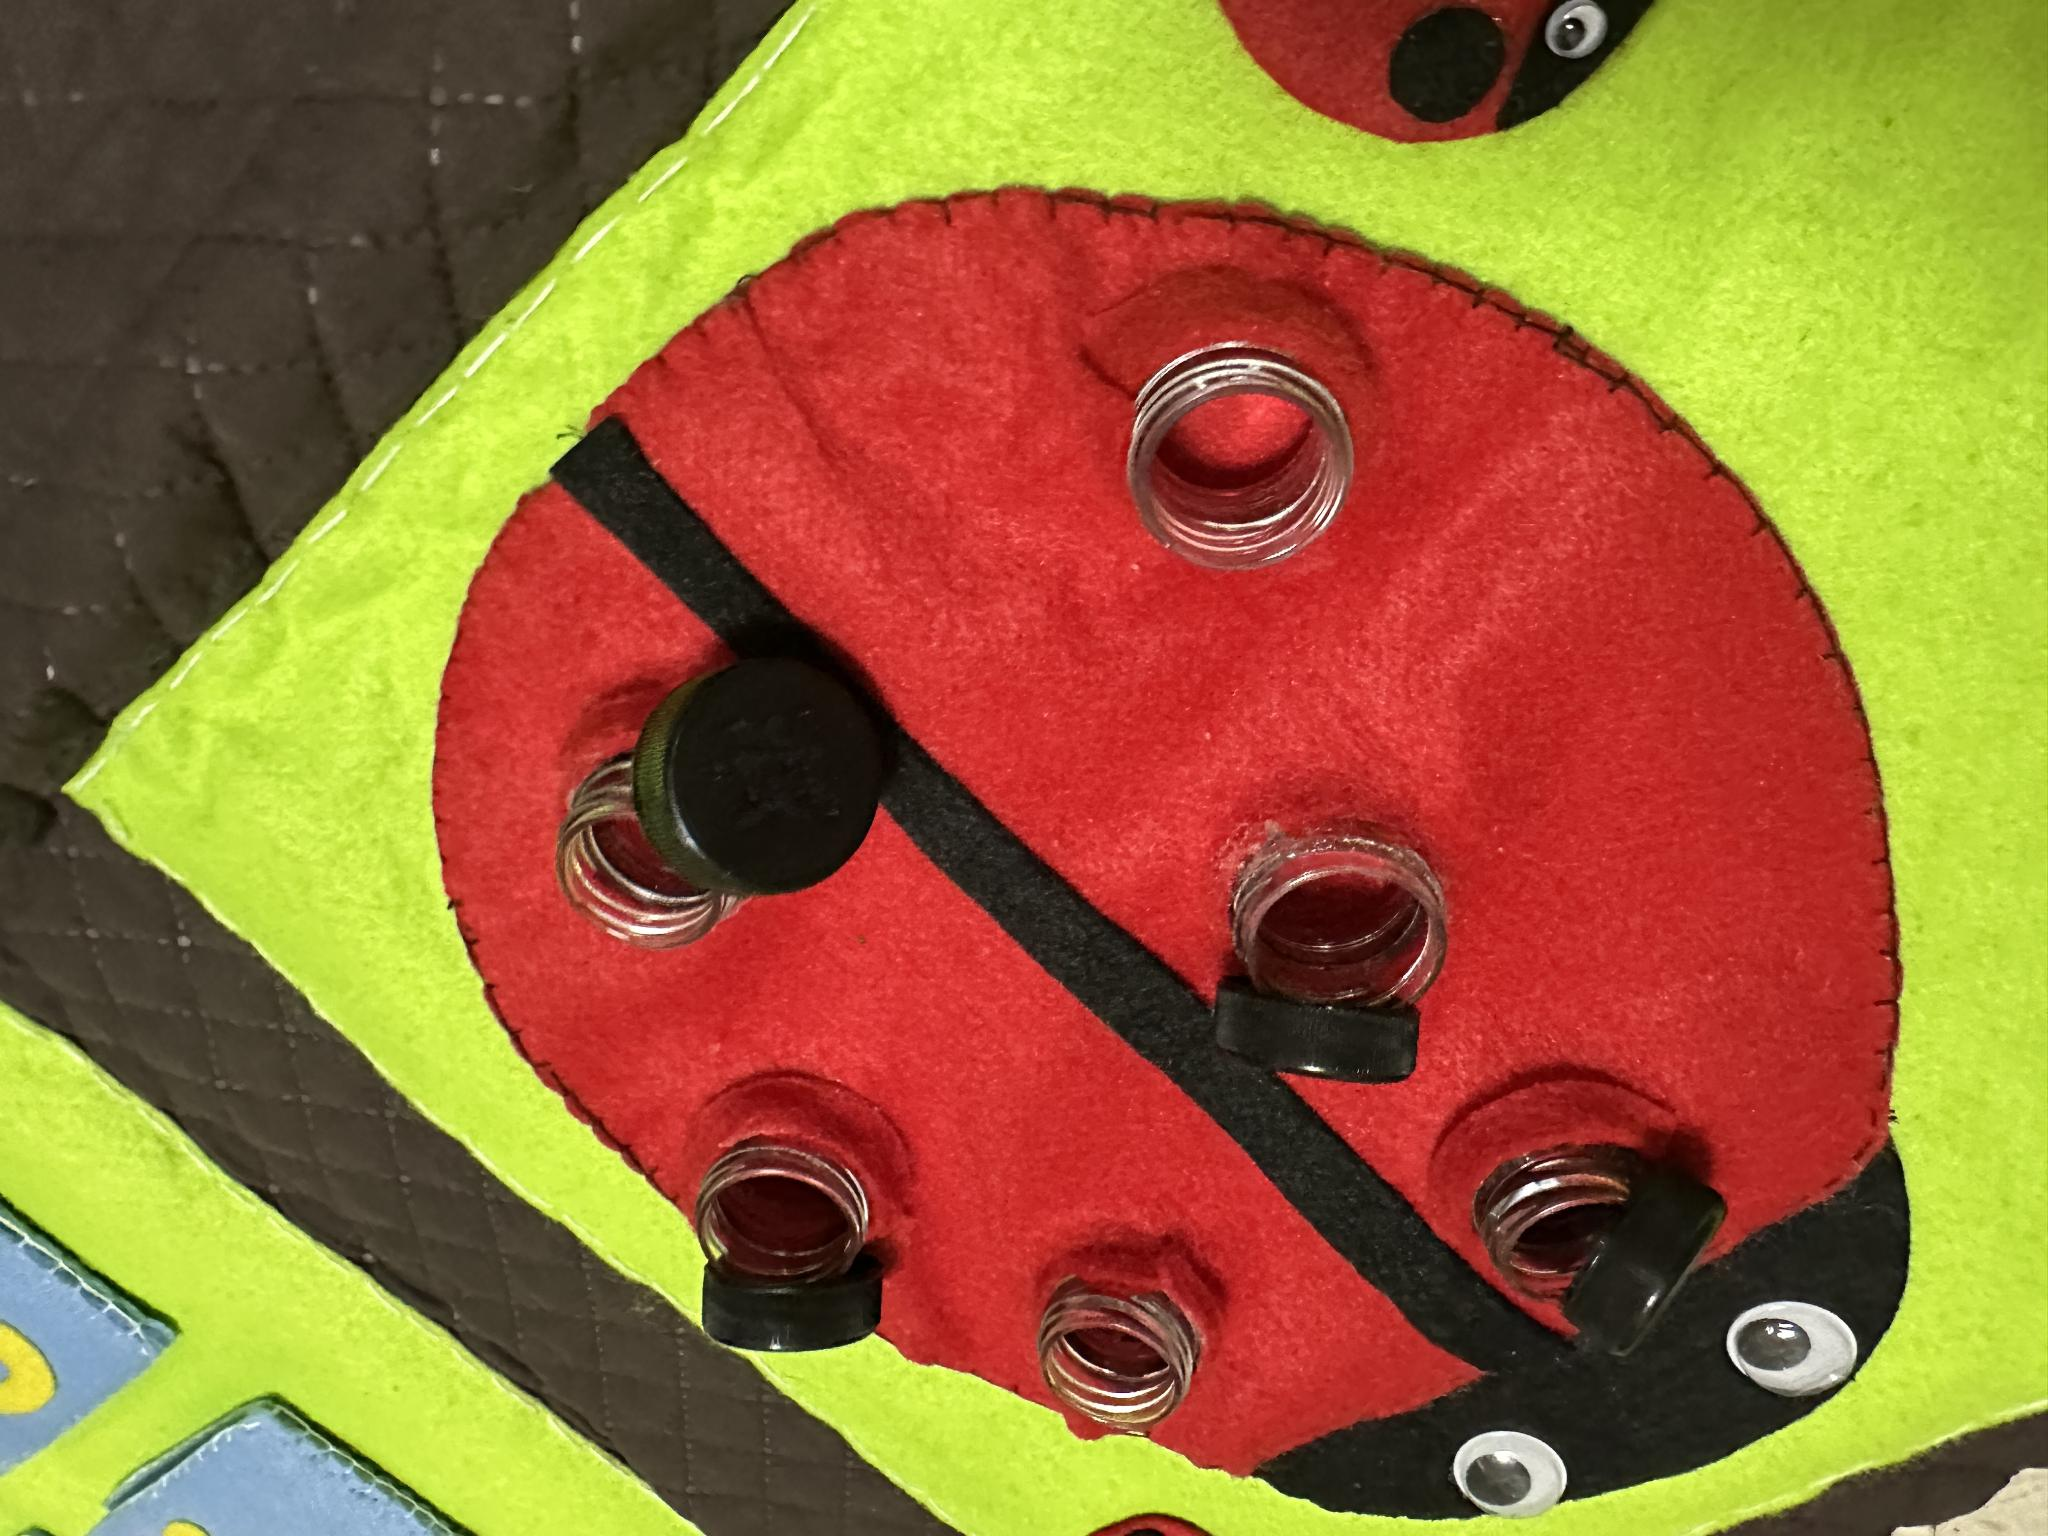cap_ng: (537, 652, 903, 966), (1456, 1055, 1743, 1352), (1200, 795, 1461, 1099), (679, 1075, 900, 1355)
